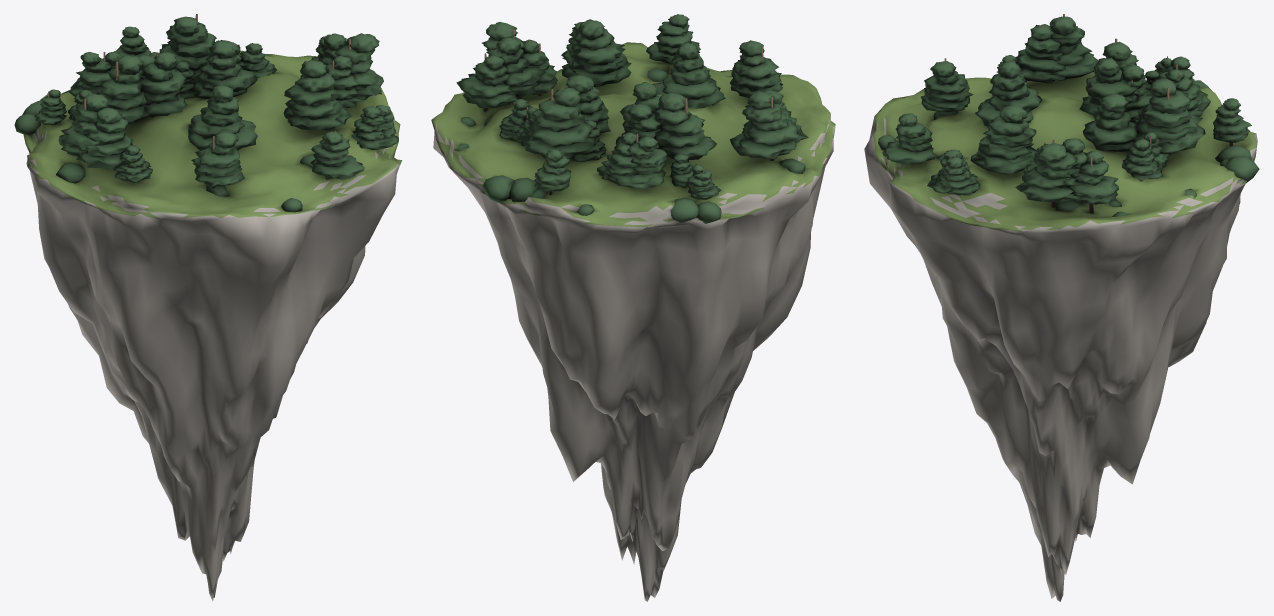
File: island.glb
3 views of the same model, side by side, from view 1: azimuth 30°, elevation 25°; view 2: azimuth 150°, elevation 25°; view 3: azimuth 270°, elevation 25° (orthographic).
Parts seen in each view (by area): view 1: Island; view 2: Island; view 3: Island.
Boxes of the visible parts, x1=… form: Island: x1=14, y1=14, x2=402, y2=601; Island: x1=431, y1=14, x2=835, y2=601; Island: x1=864, y1=14, x2=1259, y2=601.
Bounding box in the file's own units: 2.04 × 3.03 × 2.03.
